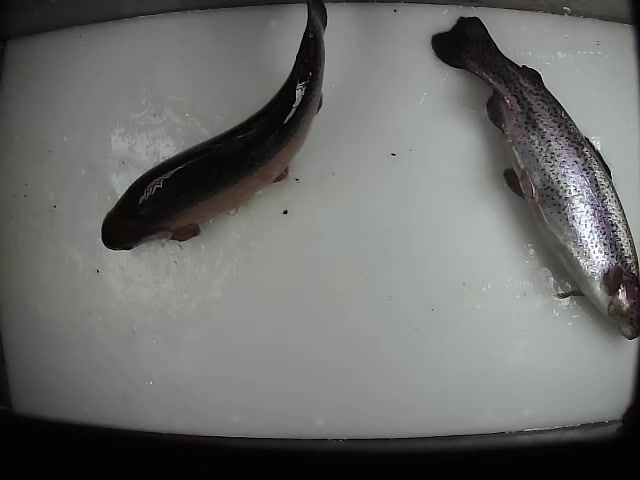Fish: (428, 15, 637, 342), (100, 1, 327, 250)
